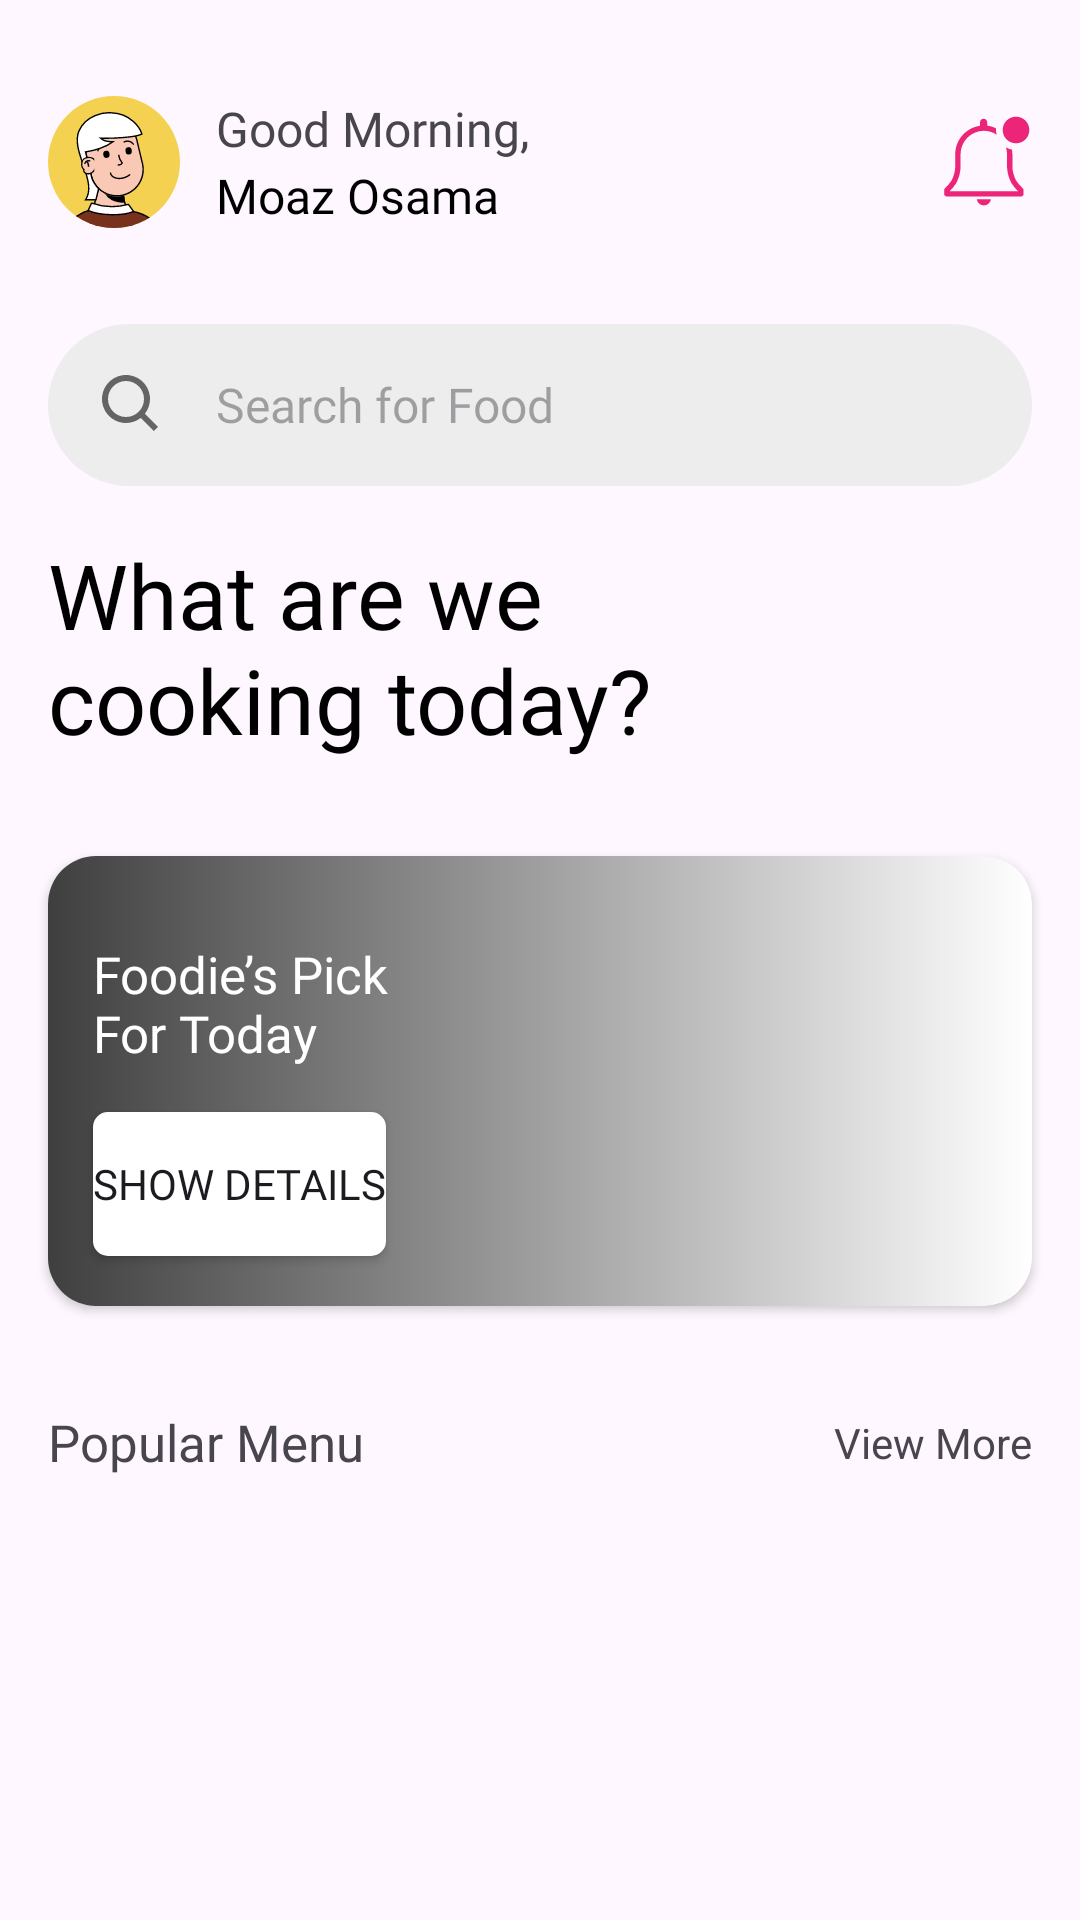

Screen size 1080px×1920px. Icon name, then its center in pixels as [x,y]:
notification: [987,161]
